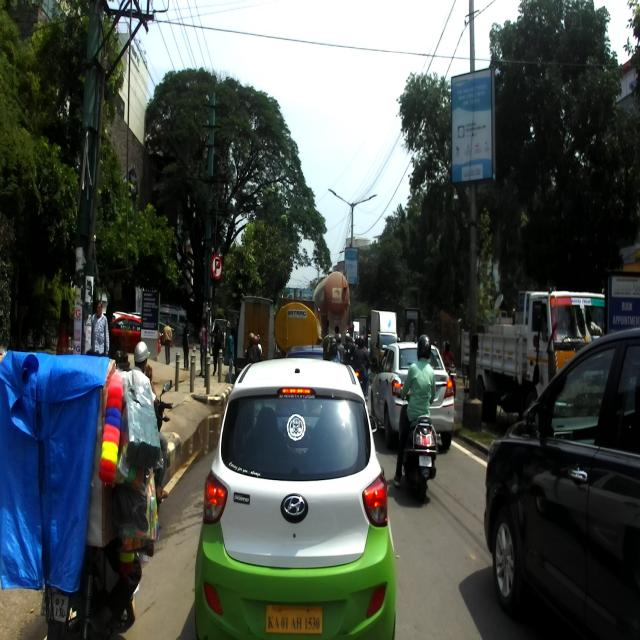car: (194, 356, 396, 638), (484, 326, 640, 639), (370, 339, 454, 448)
motorcycle: (42, 512, 154, 640)
scooter: (397, 390, 439, 503)
truck: (460, 284, 608, 422)
